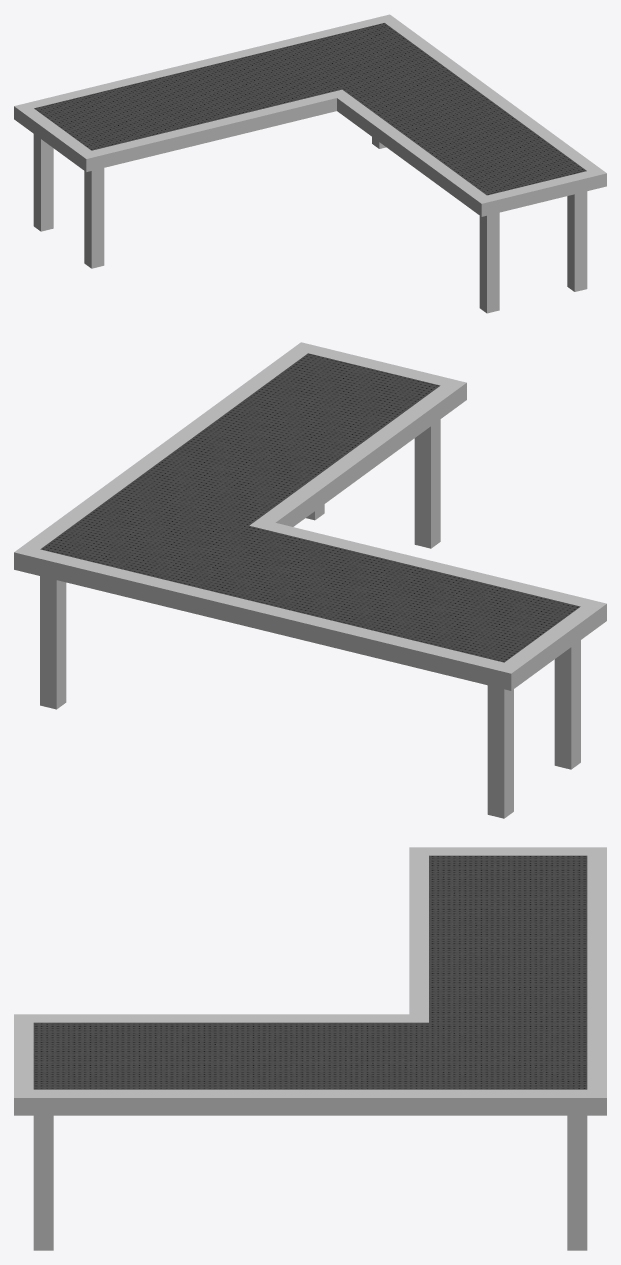
Rendered from Decor_Table_Corner.FBX.
3 renders of one model, top to bottom at view 1: azimuth 30°, elevation 25°; view 2: azimuth 150°, elevation 25°; view 3: azimuth 270°, elevation 25°, orthographic. The views are drawn at different scales.
Parts seen in each view (by area): view 1: Decor_Table_Corner; view 2: Decor_Table_Corner; view 3: Decor_Table_Corner.
Boxes of the visible parts, left/top/right/bottom form: Decor_Table_Corner: left=14, top=14, right=606, bottom=313; Decor_Table_Corner: left=14, top=342, right=606, bottom=818; Decor_Table_Corner: left=14, top=847, right=606, bottom=1250.
Bounding box in the file's own units: 3 × 0.9 × 3.
